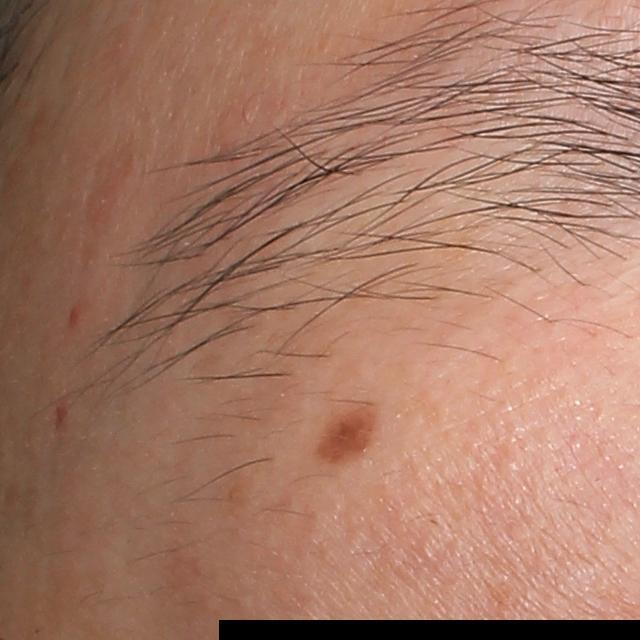melasma: (309, 406, 390, 459)
papule: (52, 394, 72, 438), (65, 301, 85, 331)
